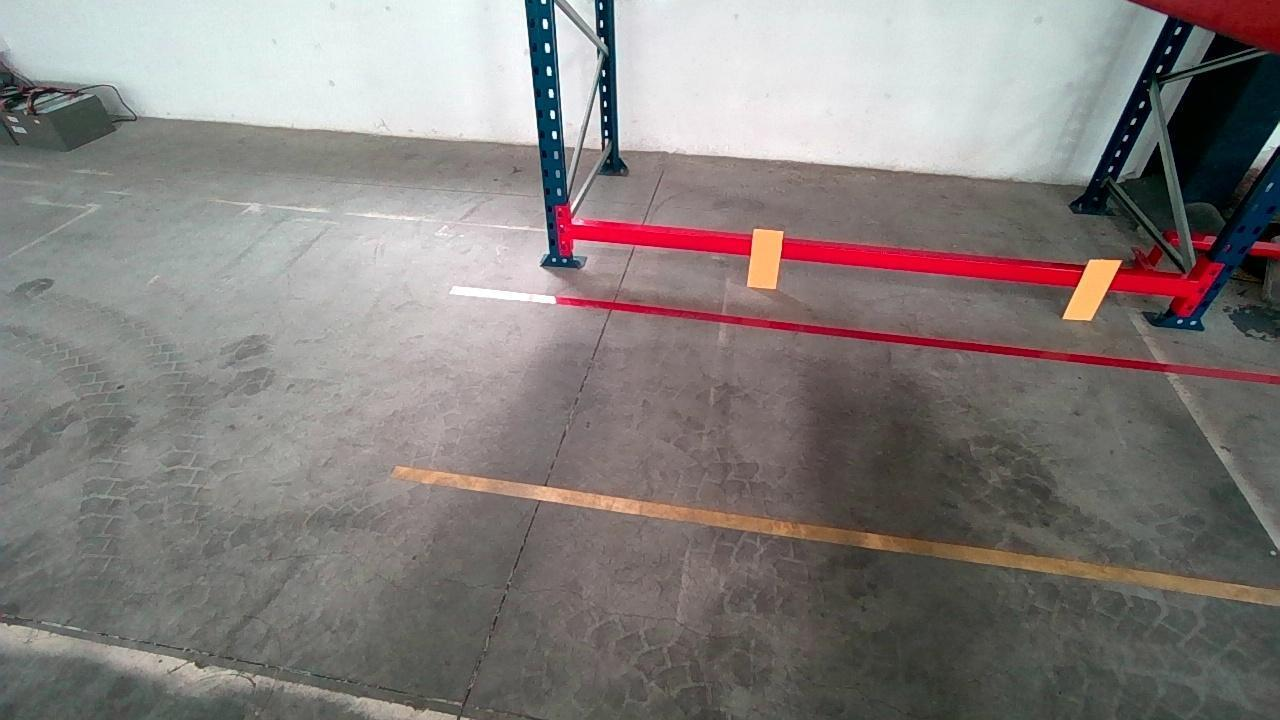h_rack: (565, 223, 1203, 299)
orange_strip: (1065, 258, 1124, 318), (749, 228, 783, 288)
red_line: (445, 286, 1280, 385)
yellow_line: (390, 462, 1280, 605)
